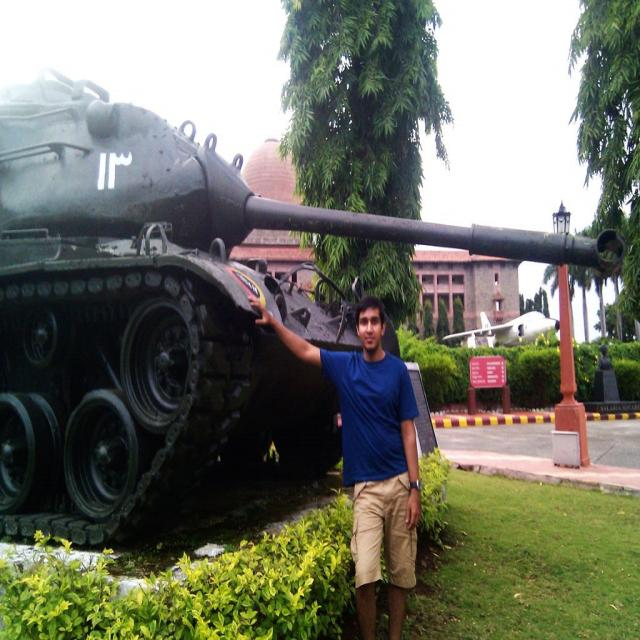tank: (0, 63, 625, 550)
